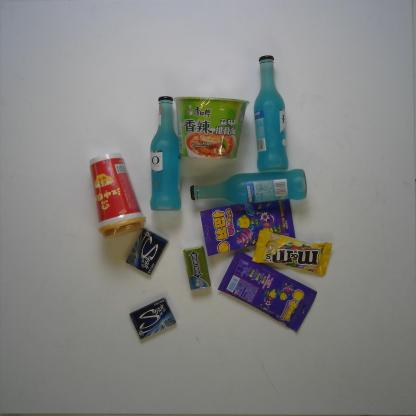Alcohol: (190, 168, 307, 206), (253, 55, 289, 171), (147, 96, 182, 214)
Candy: (218, 249, 318, 332), (198, 197, 296, 257)
Chocolate: (252, 228, 334, 276)
Gum: (123, 226, 170, 276), (129, 297, 177, 341), (183, 245, 212, 290)
Instant Drink: (86, 152, 148, 241)
Instant Noodles: (170, 95, 251, 160)
